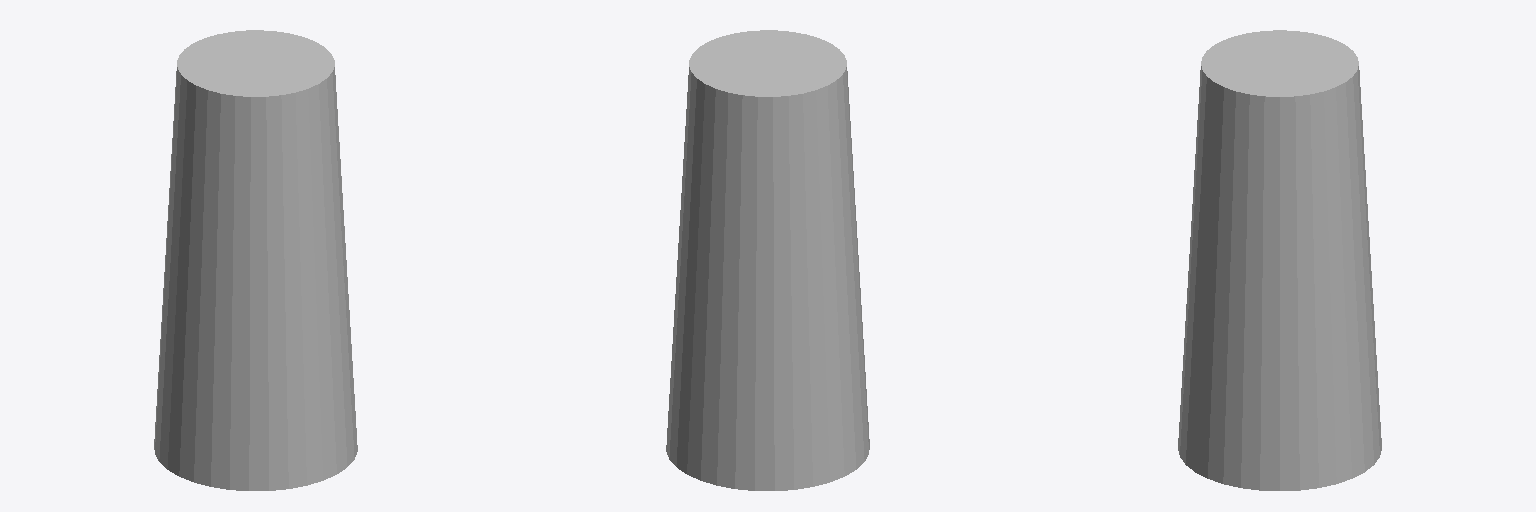
Rendered from pillar_wood_small.obj.
3 views of the same model, side by side, from view 1: azimuth 30°, elevation 25°; view 2: azimuth 150°, elevation 25°; view 3: azimuth 270°, elevation 25° (orthographic).
Parts seen in each view (by area): view 1: pillar_wood_small; view 2: pillar_wood_small; view 3: pillar_wood_small.
Boxes of the visible parts, <box> form: pillar_wood_small: <box>154,30,357,490</box>; pillar_wood_small: <box>666,30,869,490</box>; pillar_wood_small: <box>1178,30,1381,490</box>.
Bounding box in the file's own units: 0.8467 × 1.76 × 0.8467.